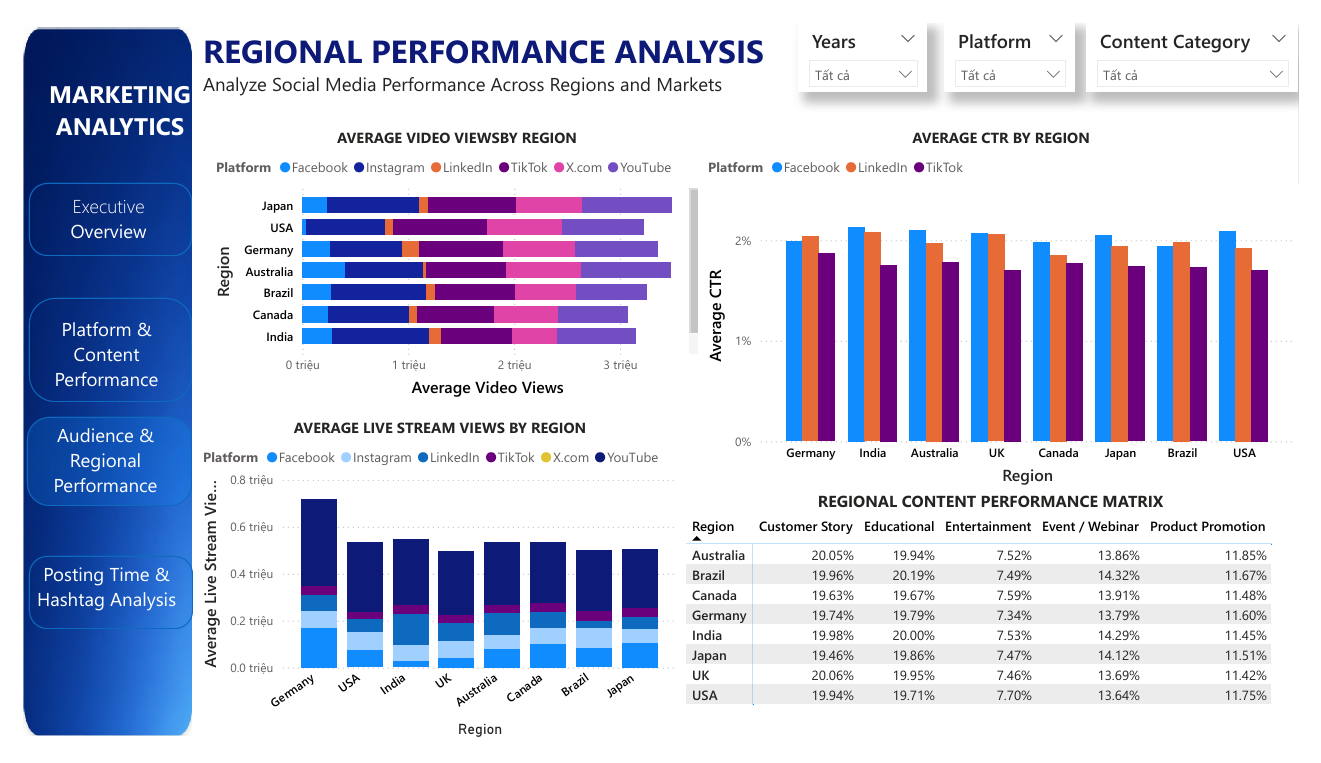

Layout of this report page (visuals, bound fields, positions):
{"tool":"powerbi","page":{"name":"Audience & Regional Performance","canvas":[1280,720],"ordinal":2},"visuals":[{"type":"pivotTable","title":"REGIONAL CONTENT PERFORMANCE MATRIX","fields":{"Rows":["Sheet1.Region"],"Values":["Sheet1.Average Engagement Rate"],"Columns":["Sheet1.Content_Category"]},"box":[662.6,467.1,617.9,253.4],"z":0},{"type":"columnChart","title":" AVERAGE LIVE STREAM VIEWS BY REGION","fields":{"Category":["Sheet1.Region"],"Series":["Sheet1.Platform"],"Y":["Sheet1.Average Live Stream Views"]},"box":[178.9,394.2,483.7,324.7],"z":1000},{"type":"clusteredColumnChart","title":"AVERAGE CTR BY REGION","fields":{"Category":["Sheet1.Region"],"Y":["Sheet1.Average CTR"],"Series":["Sheet1.Platform"]},"box":[684.1,104.4,596.3,362.8],"z":2000},{"type":"barChart","title":"AVERAGE VIDEO VIEWSBY REGION","fields":{"Category":["Sheet1.Region"],"Y":["Sheet1.Average Video Views"],"Series":["Sheet1.Platform"]},"box":[192.2,104.4,492,275],"z":4000},{"type":"textbox","box":[178.9,0,601.3,104.4],"z":5000},{"type":"slicer","fields":{"Values":["Sheet1.Post_Published_At.Biến động.Phân cấp ngày tháng.Năm"]},"box":[780.2,0,129.2,69.6],"z":6000},{"type":"slicer","fields":{"Values":["Sheet1.Platform"]},"box":[926,0,130.9,69.6],"z":7000},{"type":"slicer","fields":{"Values":["Sheet1.Content_Category"]},"box":[1068.4,0,212,69.6],"z":8000},{"type":"image","box":[0,0,178.8,719.2],"z":9000},{"type":"textbox","box":[9.6,0,182.7,138.5],"z":10000},{"type":"shape","box":[10,160,163,73],"z":11000},{"type":"shape","box":[10,275,163,104],"z":12000},{"type":"shape","box":[7.7,394.2,165,88.5],"z":13000},{"type":"shape","box":[9.6,532.7,164,73.1],"z":14000},{"type":"textbox","box":[11.5,165.4,155.8,59.6],"z":15000},{"type":"textbox","box":[11.5,288.5,151.9,90.4],"z":16000},{"type":"textbox","box":[9.6,394.2,153.8,88.5],"z":17000},{"type":"textbox","box":[11.5,532.7,151.9,90.4],"z":18000}]}

Visuals, with their boxes in screenshot pixels (x1, y1, x2, y2), scaled from the page's 1280x720 canvas onto the 1321x763 screenshot:
"REGIONAL CONTENT PERFORMANCE MATRIX" pivotTable: bbox=[684, 495, 1320, 762]
" AVERAGE LIVE STREAM VIEWS BY REGION" columnChart: bbox=[185, 418, 684, 762]
"AVERAGE CTR BY REGION" clusteredColumnChart: bbox=[706, 111, 1320, 495]
"AVERAGE VIDEO VIEWSBY REGION" barChart: bbox=[198, 111, 706, 402]
textbox: bbox=[185, 0, 805, 111]
slicer - Sheet1.Post_Published_At.Biến động.Phân cấp ngày tháng.Năm: bbox=[805, 0, 939, 74]
slicer - Sheet1.Platform: bbox=[956, 0, 1091, 74]
slicer - Sheet1.Content_Category: bbox=[1103, 0, 1320, 74]
image: bbox=[0, 0, 185, 762]
textbox: bbox=[10, 0, 198, 147]
shape: bbox=[10, 170, 179, 247]
shape: bbox=[10, 291, 179, 402]
shape: bbox=[8, 418, 178, 512]
shape: bbox=[10, 565, 179, 642]
textbox: bbox=[12, 175, 173, 238]
textbox: bbox=[12, 306, 169, 402]
textbox: bbox=[10, 418, 169, 512]
textbox: bbox=[12, 565, 169, 660]
